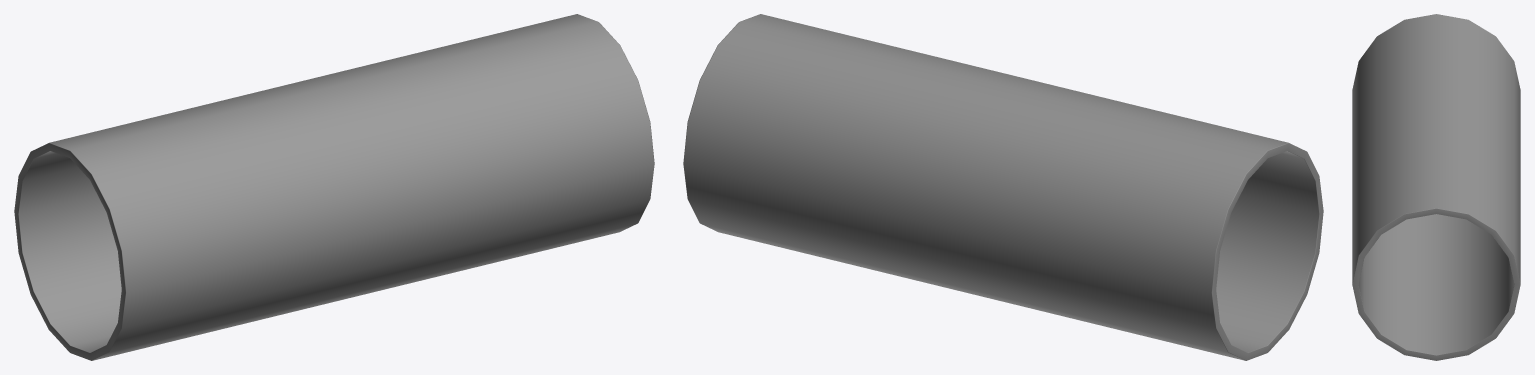
Rendered from SM_Pipe_01.fbx.
3 renders of one model, left to right at view 1: azimuth 30°, elevation 25°; view 2: azimuth 150°, elevation 25°; view 3: azimuth 270°, elevation 25°, orthographic. The views are drawn at different scales.
Parts seen in each view (by area): view 1: SM_Pipe_01; view 2: SM_Pipe_01; view 3: SM_Pipe_01.
Boxes of the visible parts, box(x1,y1,x2,y2) form: SM_Pipe_01: box(14, 14, 654, 360); SM_Pipe_01: box(683, 14, 1323, 360); SM_Pipe_01: box(1352, 14, 1520, 360).
Size of the model in its own units: 111 by 40.69 by 40.69.
